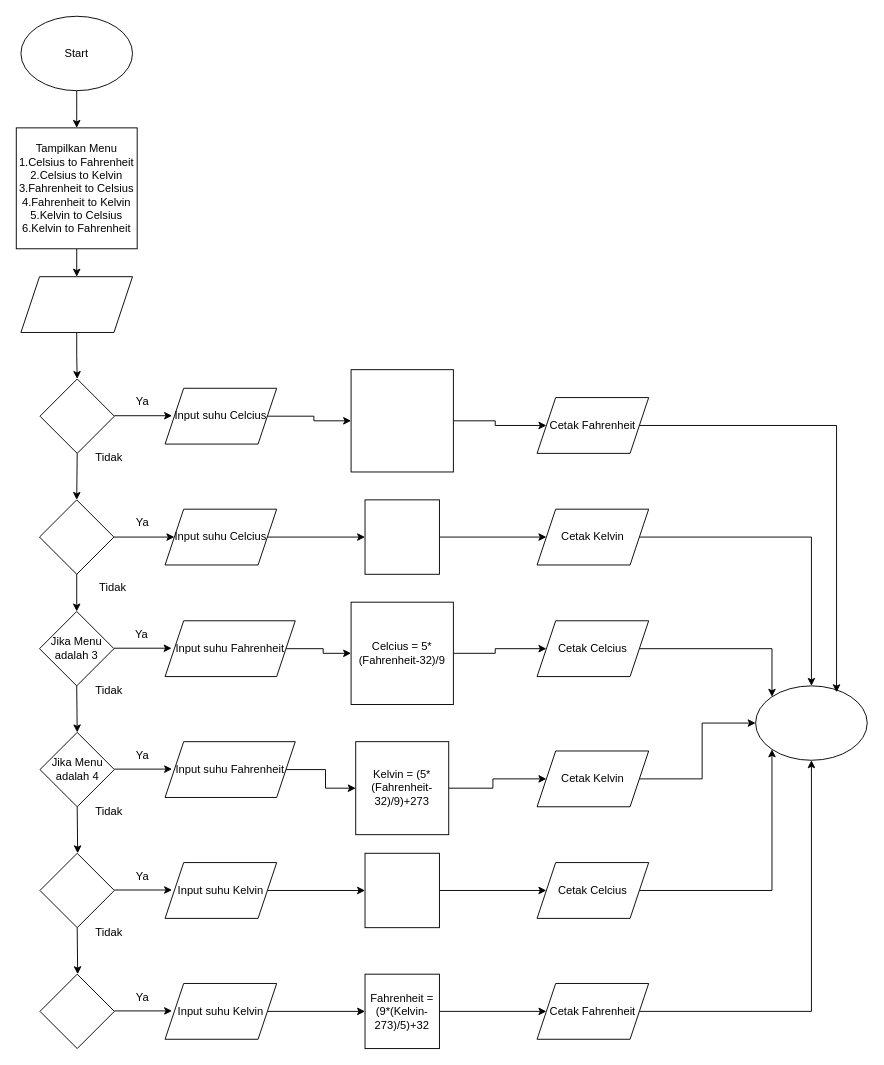
Some shapes in this 884 by 1065 pixel diagram are drawn without their labels. The shapes that lost their labels are listed below. From the top down, each one's centre as x and y in pixels, then its label:
At [76,304]: "Input Menu".
At [76,415]: "Jika Menu adalah 1".
At [401,420]: "Fahrenheit = 9*(Celcius+32)/5".
At [76,536]: "Jika Menu adalah 2".
At [401,536]: "Kelvin = Celcius+273".
At [811,722]: "End".
At [76,890]: "Jika Menu adalah 5".
At [401,890]: "Celcius = Kelvin-273".
At [76,1011]: "Jika Menu adalah 6".
